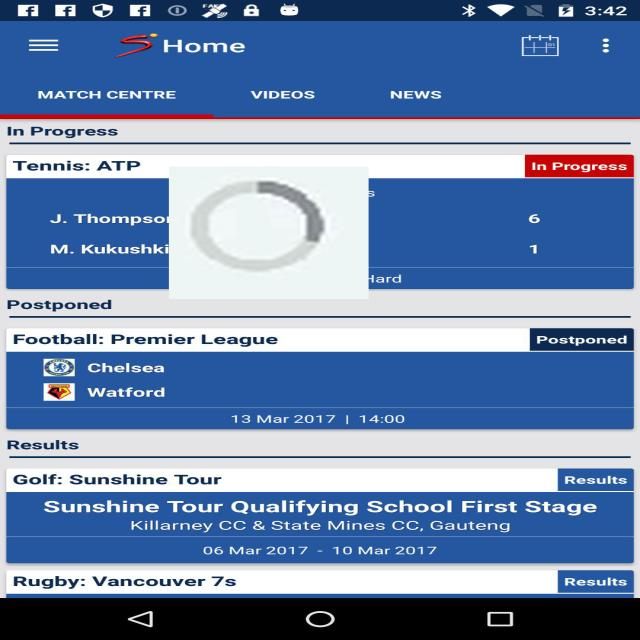misdirection: (169, 166, 368, 299)
